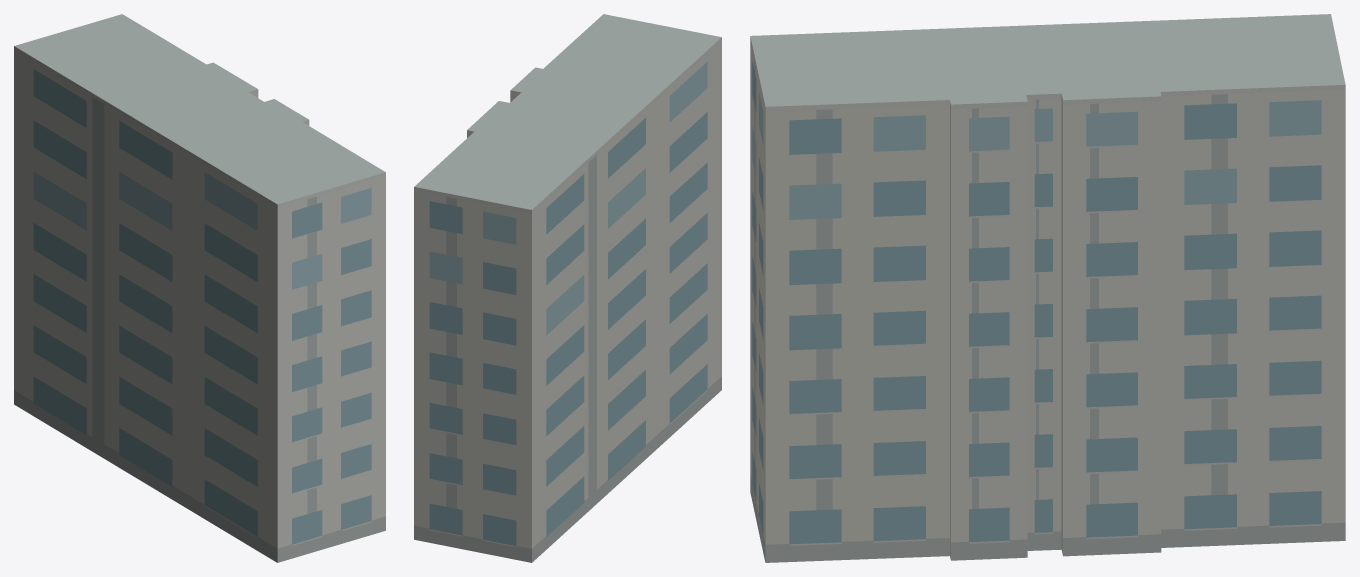
Rendered from survey-upis-32918850.glb.
The picture shows the model from 3 angles, left to right: view 1: azimuth 30°, elevation 25°; view 2: azimuth 150°, elevation 25°; view 3: azimuth 270°, elevation 25°; orthographic projection. The views are drawn at different scales.
Parts seen in each view (by area): view 1: survey-upis-32918850.tmp; view 2: survey-upis-32918850.tmp; view 3: survey-upis-32918850.tmp.
Boxes of the visible parts, x1,y1,x2,y2 form: survey-upis-32918850.tmp: (14, 14, 385, 562); survey-upis-32918850.tmp: (414, 14, 721, 562); survey-upis-32918850.tmp: (750, 14, 1345, 562).
Size of the model in its own units: 9.92 by 22.7 by 26.86.
